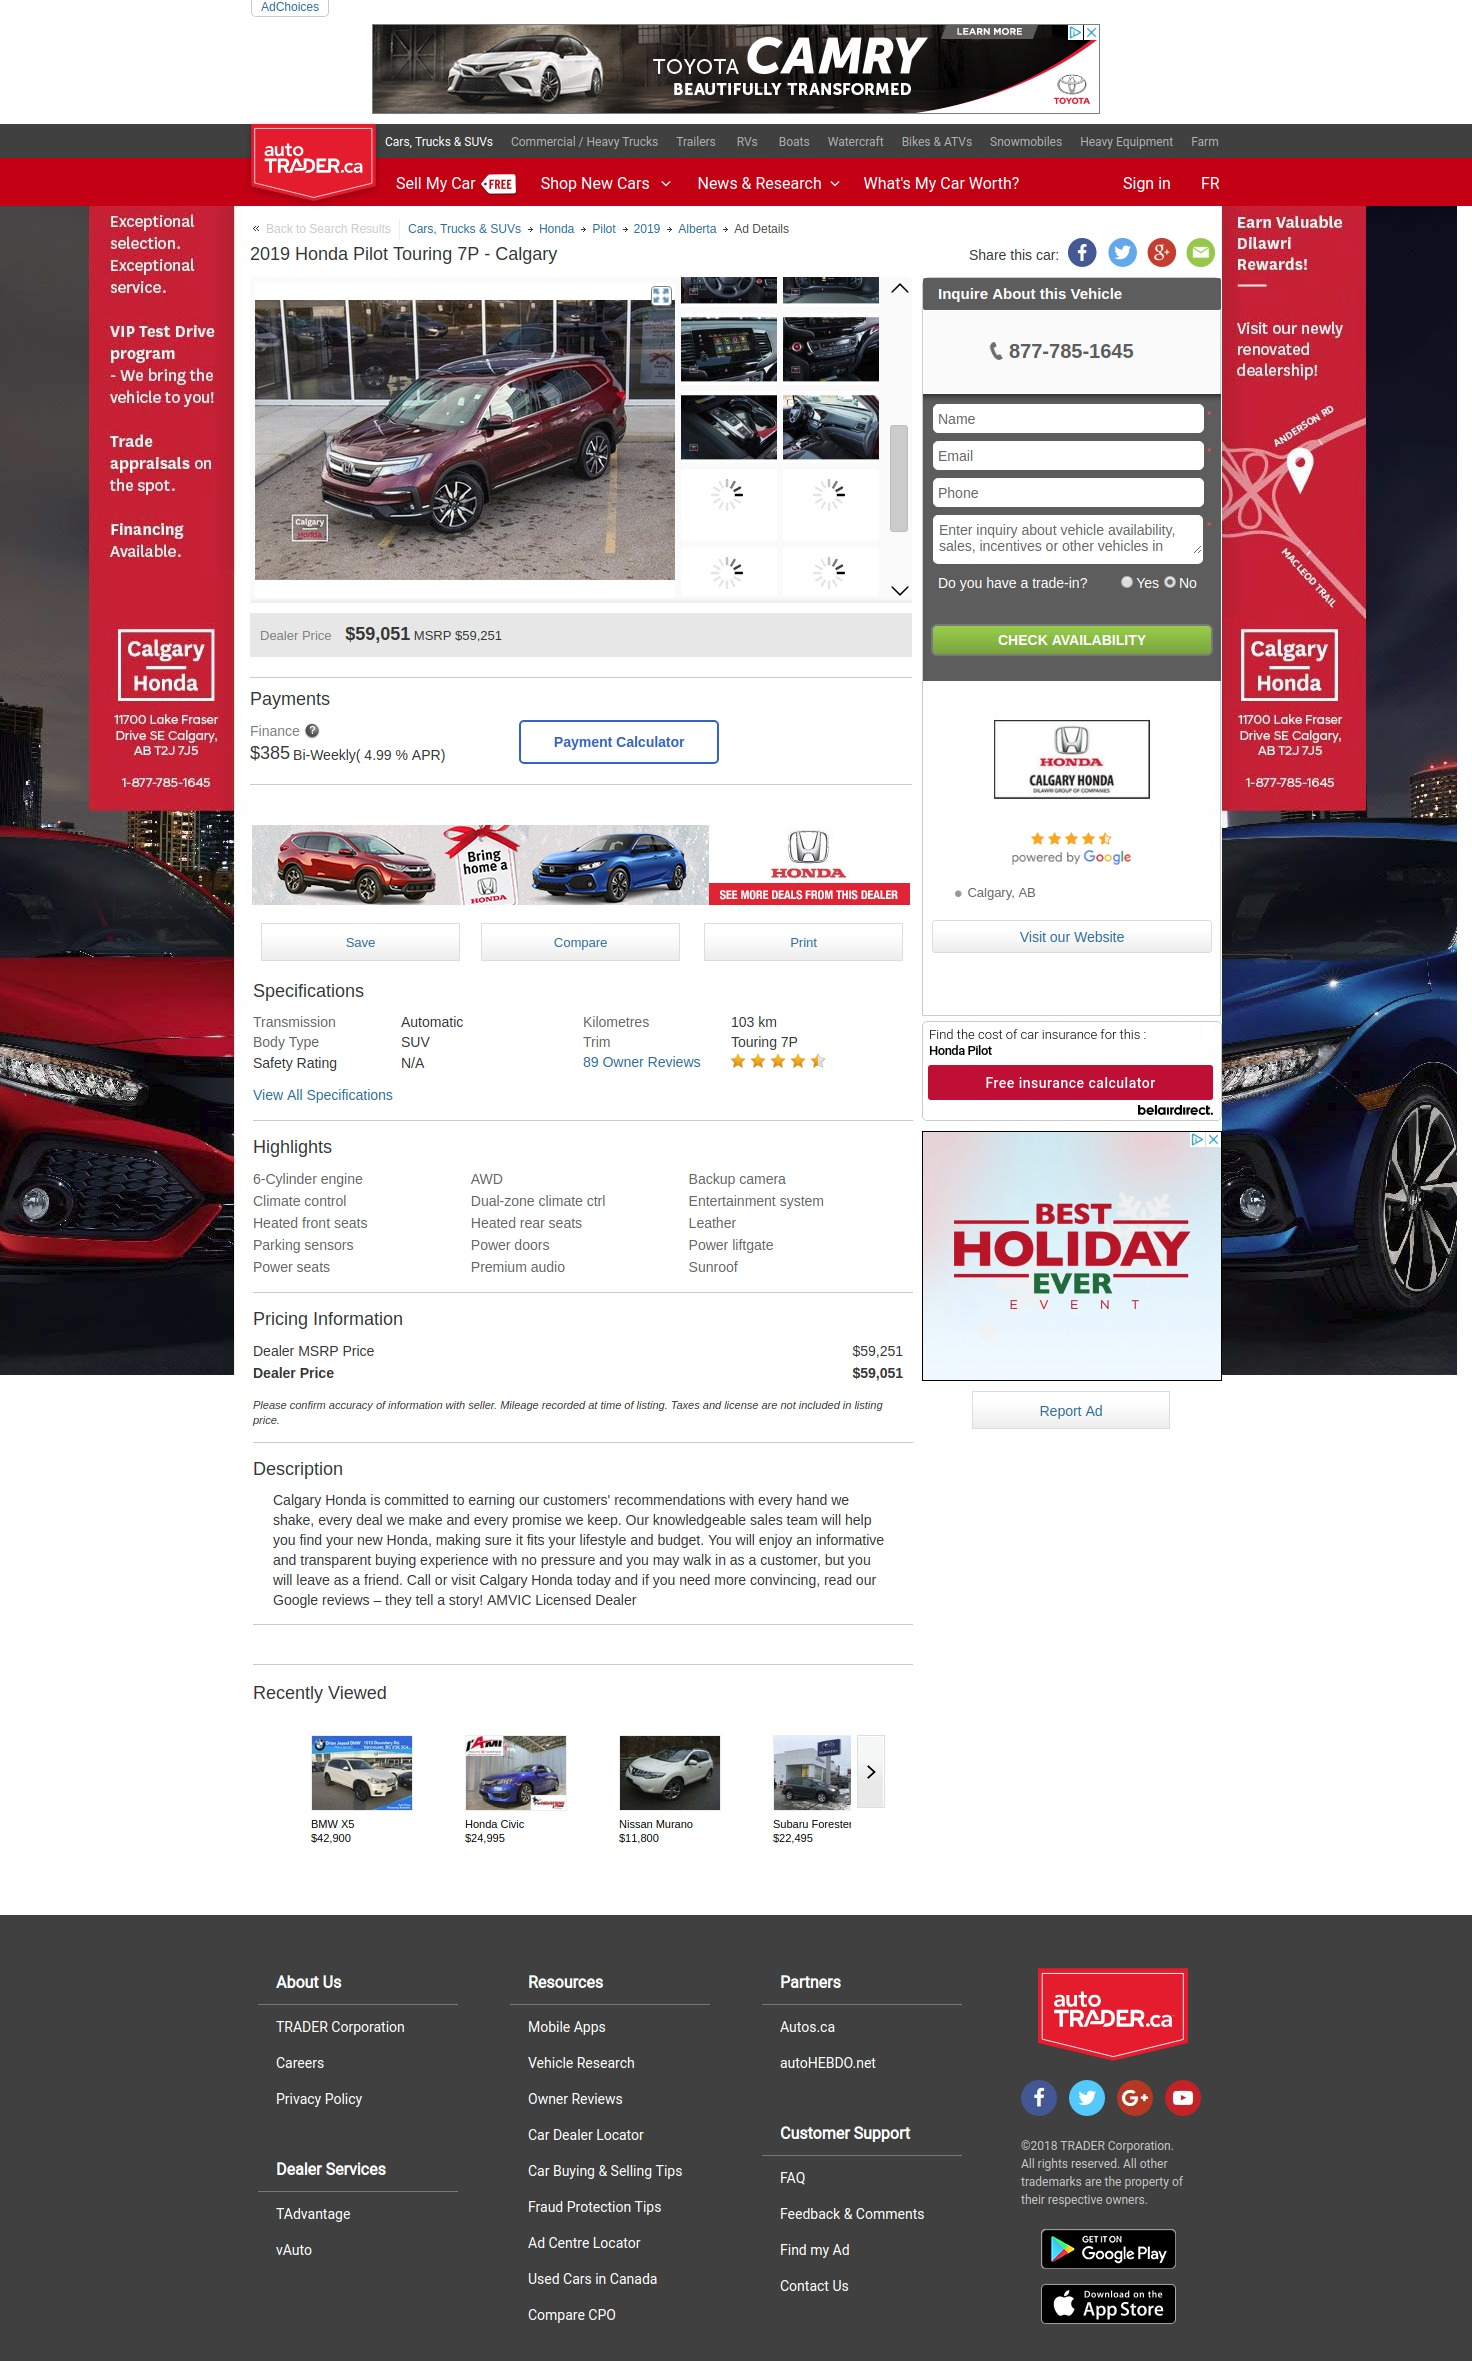car: (890, 585, 911, 598)
